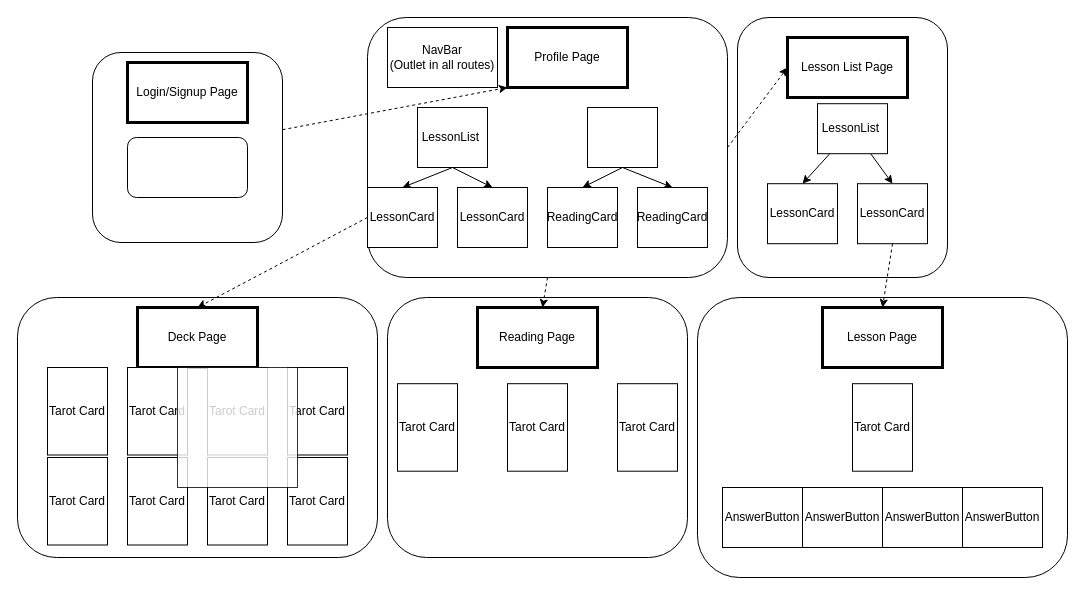
Image size: 1085x595. Some labels were removed from this diagram. Each missing label, with the centre of its shape:
LoginSignupForm: (187,167)
PopupCardDetail: (237,427)
ReadingsList: (622,137)
